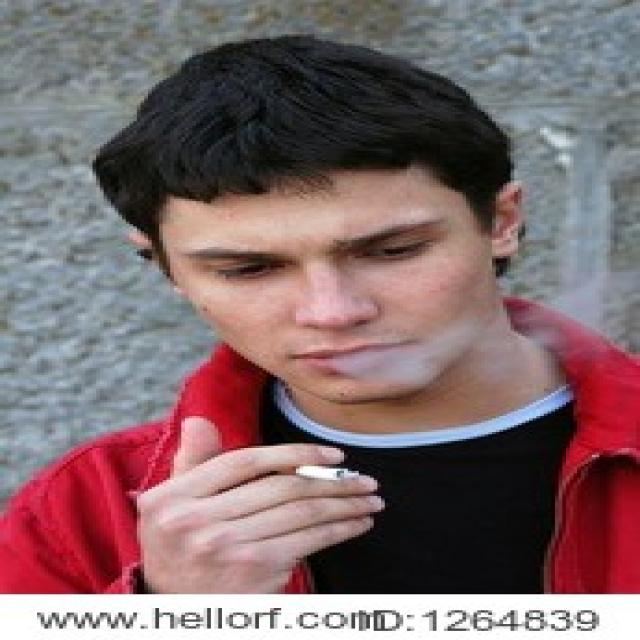cigarette: (280, 452, 366, 486)
